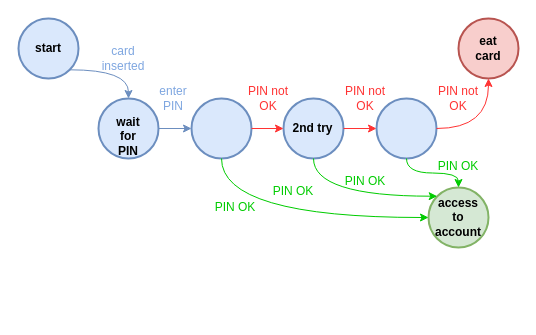
The diagram is 536 pixels wide and 335 high, and some of its shapes have lost their labels. Here are the shapes that lost their labels. From the top down, the centre of each, then its label:
the point at 221,128: 1st try
the point at 406,128: 3rd try
